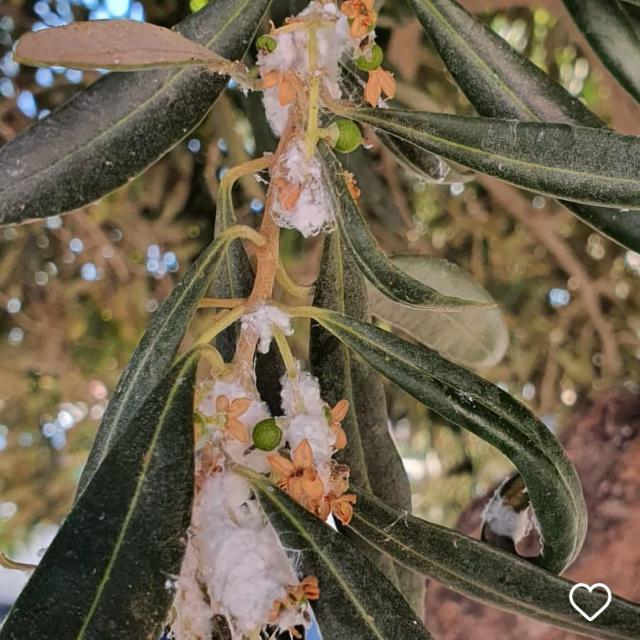Psyllid: (170, 302, 356, 639), (256, 0, 396, 237), (479, 472, 543, 562)
